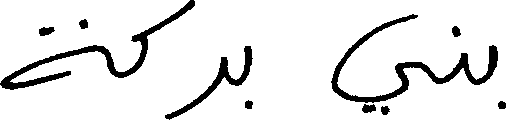ب: (484, 43, 504, 109), (243, 44, 253, 110)
ة: (0, 16, 98, 90)
ر: (191, 52, 229, 109)
ك: (131, 0, 191, 80)
ن: (455, 23, 469, 82)
ي: (330, 11, 422, 115)
